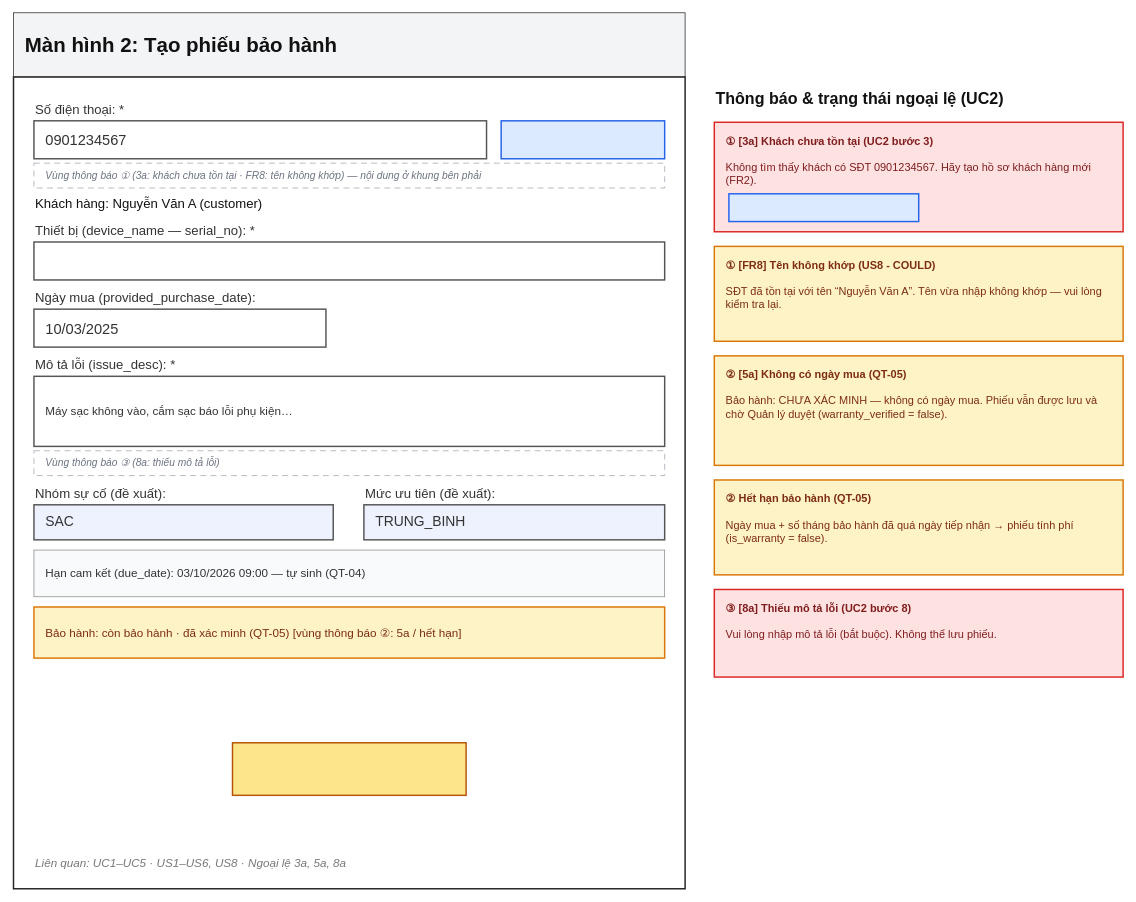
The diagram is 1136 pixels wide and 902 high, and some of its shapes have lost their labels. Here are the shapes that lost their labels. From the top down, the centre of each, then its label:
At [582,139]: "Tra cứu".
At [823,207]: "+ Tạo khách hàng mới".
At [349,260]: "iPhone 13 — IMEI123456 ▾".
At [348,769]: "Lưu phiếu bảo hành".
